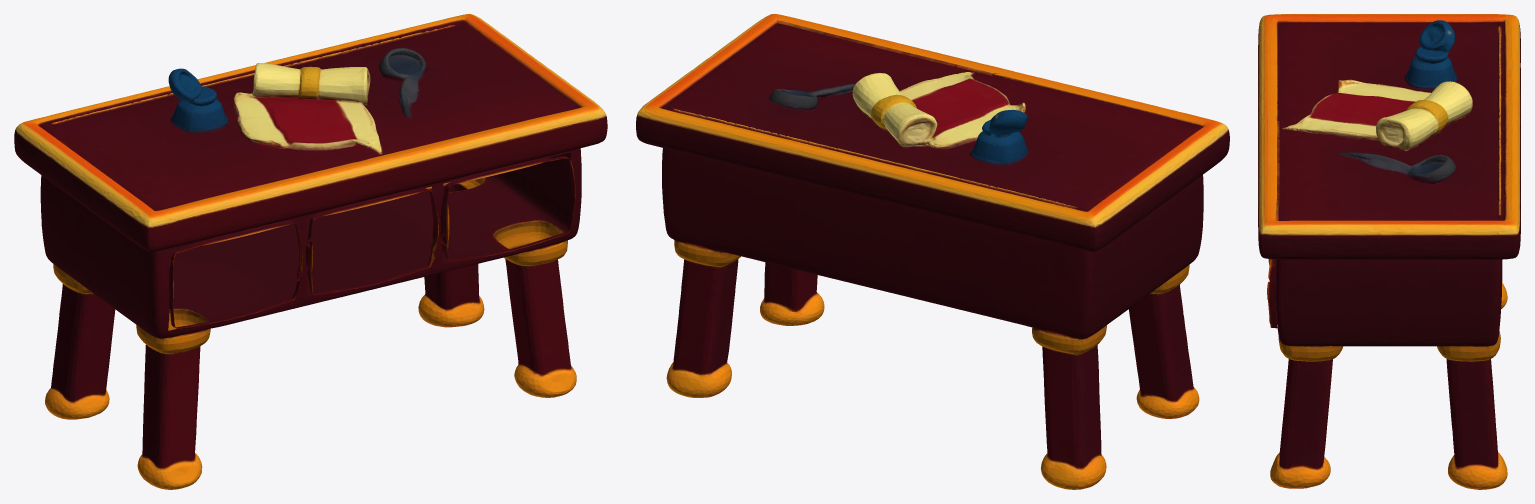
File: body.glb
3 renders of one model, left to right at view 1: azimuth 30°, elevation 25°; view 2: azimuth 150°, elevation 25°; view 3: azimuth 270°, elevation 25°, orthographic. The views are drawn at different scales.
Visible parts, largest first — view 1: source_surface_0; view 2: source_surface_0; view 3: source_surface_0.
Part boxes in pixels (x1,y1,x2,y2): source_surface_0: (14,14,607,489); source_surface_0: (636,14,1229,489); source_surface_0: (1258,14,1520,489).
Size of the model in its own units: 1.2 by 0.8257 by 0.6105.
1 material, 1 textured.
